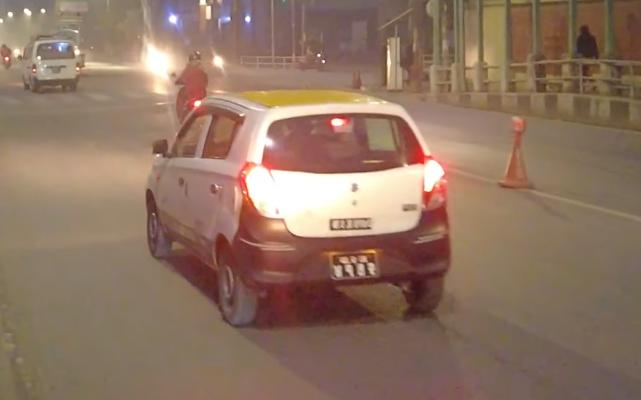scooter: (169, 75, 209, 124)
taxi: (121, 79, 477, 329)
van: (19, 35, 82, 96)
